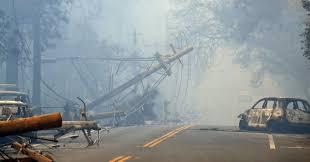smoke: (1, 2, 310, 122)
